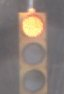Red: (16, 9, 49, 94)
